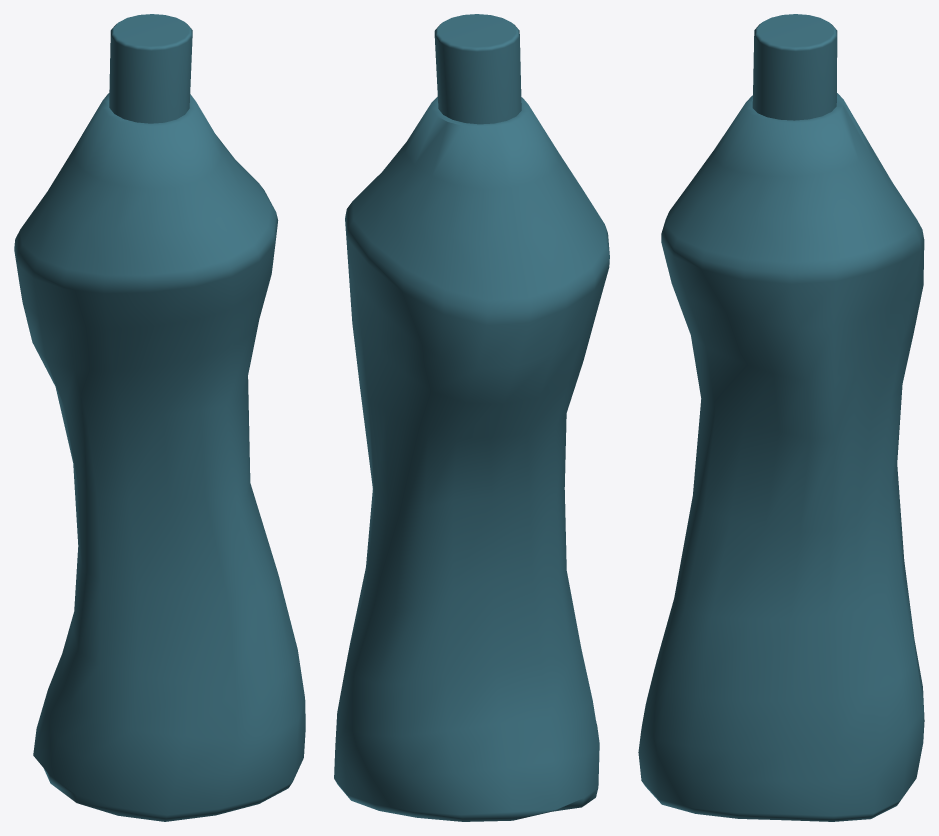
Rendered from SM_SmallTrashkit_Bottle_002.fbx.
The picture shows the model from 3 angles, left to right: view 1: azimuth 30°, elevation 25°; view 2: azimuth 150°, elevation 25°; view 3: azimuth 270°, elevation 25°; orthographic projection. The views are drawn at different scales.
Parts seen in each view (by area): view 1: SM_SmallTrashkit_Bottle_002; view 2: SM_SmallTrashkit_Bottle_002; view 3: SM_SmallTrashkit_Bottle_002.
Boxes of the visible parts, x1,y1,x2,y2 form: SM_SmallTrashkit_Bottle_002: (14, 14, 305, 821); SM_SmallTrashkit_Bottle_002: (334, 14, 609, 821); SM_SmallTrashkit_Bottle_002: (638, 14, 924, 821).
Bounding box in the file's own units: 14.61 × 43.28 × 14.93.
